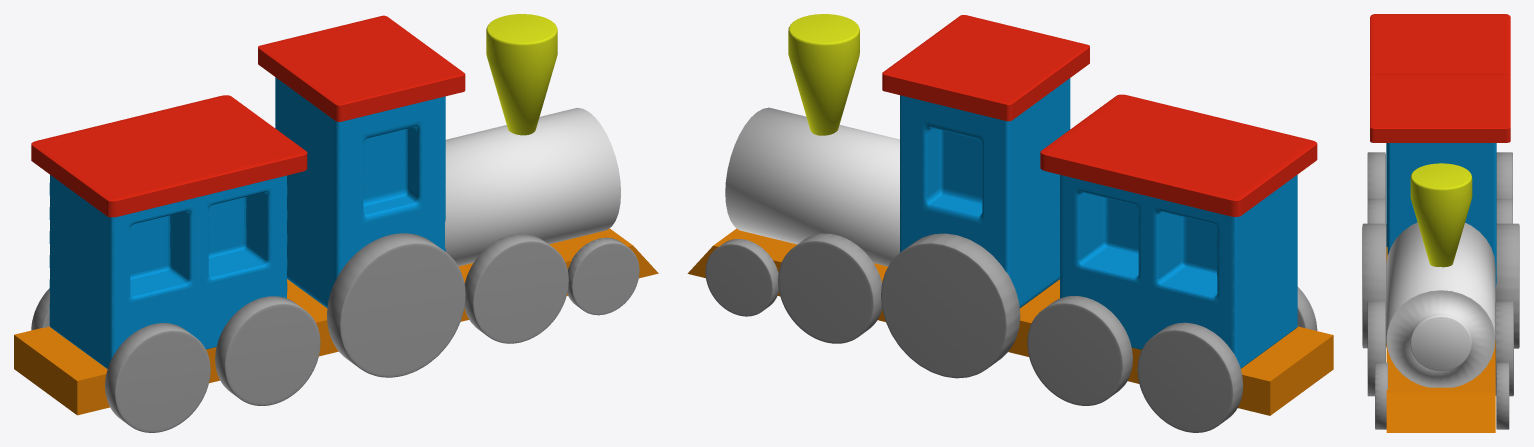
File: train_1.glb
3 renders of one model, left to right at view 1: azimuth 30°, elevation 25°; view 2: azimuth 150°, elevation 25°; view 3: azimuth 270°, elevation 25°, orthographic. The views are drawn at different scales.
Parts seen in each view (by area): view 1: Cube.003, Cube.001, Cube.004, Cylinder, Cylinder.002, Cube.002, Cylinder.006, Cylinder.008, Cylinder.007, Cube, Cylinder.009, Cylinder.011; view 2: Cube.003, Cube.001, Cube.004, Cylinder, Cylinder.001, Cube.002, Cylinder.005, Cylinder.004, Cylinder.003, Cube, Cylinder.009, Cylinder.010; view 3: Cylinder, Cube.002, Cube.004, Cube.001, Cube, Cylinder.009, Cylinder.002, Cylinder.001, Cylinder.008, Cylinder.003, Cylinder.010, Cylinder.006 (+5 smaller).
Boxes of the visible parts, left/top/right/bottom form: Cube.003: left=49, top=175, right=287, bottom=368; Cube.001: left=275, top=77, right=445, bottom=307; Cube.004: left=31, top=95, right=307, bottom=217; Cylinder: left=445, top=107, right=620, bottom=266; Cylinder.002: left=327, top=233, right=465, bottom=377; Cube.002: left=258, top=15, right=465, bottom=121; Cylinder.006: left=105, top=323, right=210, bottom=432; Cylinder.008: left=464, top=233, right=568, bottom=343; Cylinder.007: left=215, top=296, right=320, bottom=405; Cube: left=14, top=228, right=658, bottom=415; Cylinder.009: left=486, top=14, right=557, bottom=135; Cylinder.011: left=567, top=237, right=639, bottom=315; Cube.003: left=1060, top=175, right=1297, bottom=368; Cube.001: left=900, top=78, right=1070, bottom=308; Cube.004: left=1040, top=94, right=1317, bottom=216; Cylinder: left=725, top=107, right=899, bottom=266; Cylinder.001: left=881, top=233, right=1020, bottom=378; Cube.002: left=882, top=15, right=1089, bottom=121; Cylinder.005: left=1137, top=322, right=1243, bottom=432; Cylinder.004: left=1027, top=296, right=1132, bottom=405; Cylinder.003: left=778, top=233, right=882, bottom=343; Cube: left=687, top=228, right=1333, bottom=415; Cylinder.009: left=788, top=14, right=859, bottom=135; Cylinder.010: left=705, top=239, right=778, bottom=316; Cylinder: left=1386, top=222, right=1495, bottom=387; Cube.002: left=1370, top=74, right=1510, bottom=142; Cube.004: left=1370, top=14, right=1510, bottom=75; Cube.001: left=1387, top=143, right=1496, bottom=286; Cube: left=1386, top=247, right=1495, bottom=432; Cylinder.009: left=1410, top=163, right=1472, bottom=267; Cylinder.002: left=1362, top=223, right=1386, bottom=348; Cylinder.001: left=1495, top=223, right=1519, bottom=348; Cylinder.008: left=1367, top=301, right=1385, bottom=396; Cylinder.003: left=1495, top=301, right=1513, bottom=396; Cylinder.010: left=1496, top=362, right=1509, bottom=429; Cylinder.006: left=1367, top=152, right=1385, bottom=200.
Size of the model in its own units: 10.61 by 4.92 by 2.88.
